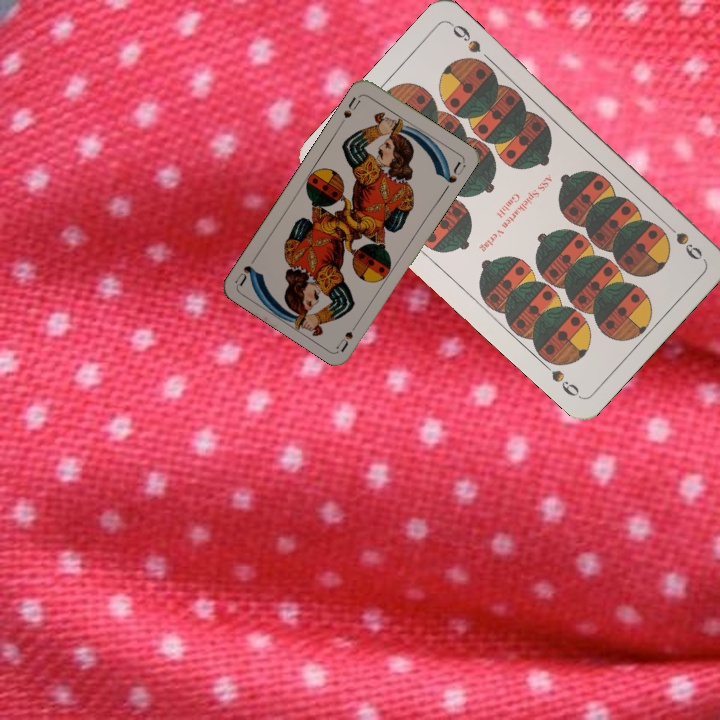S9: (659, 216, 706, 263)
SU: (333, 316, 362, 353), (336, 91, 364, 127)
